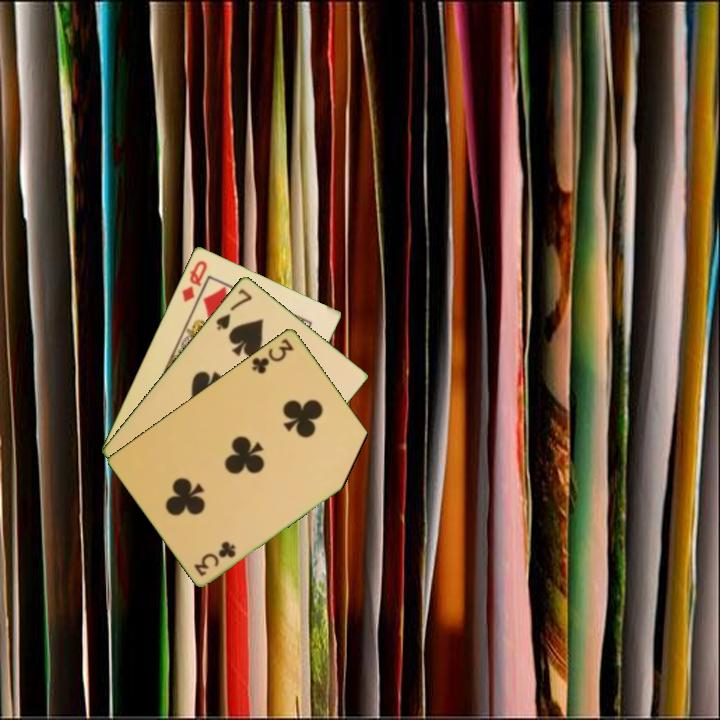3c: (248, 335, 296, 377), (190, 538, 239, 579)
7s: (212, 285, 255, 333)
Qd: (178, 256, 210, 305)
